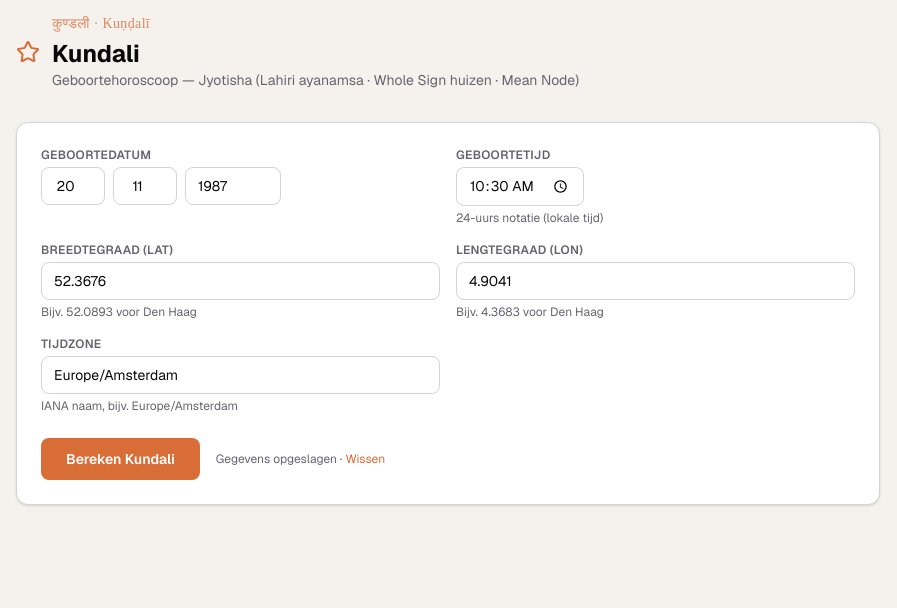
Test case: Kundali Page › handles network errors gracefully
Fill ALL form fields
Replace the text in the 1st number field with placeholder "DD" with "01" at (73, 186), box 41,167 -> 105,205
Replace the text in the 2nd number field with placeholder "MM" with "01" at (145, 186), box 113,167 -> 177,205
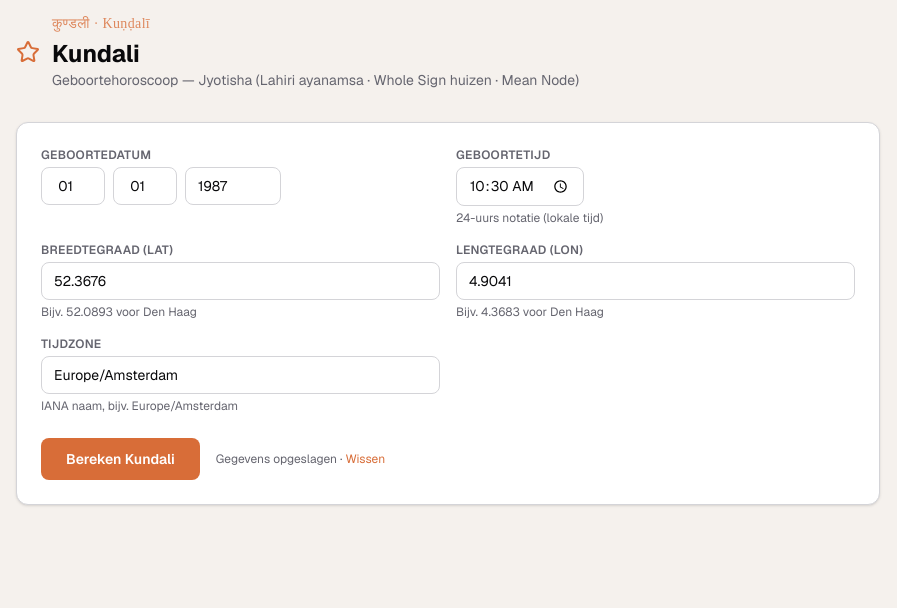
Replace the text in the 3rd number field with placeholder "JJJJ" with "2000" at (233, 186), box 185,167 -> 281,205
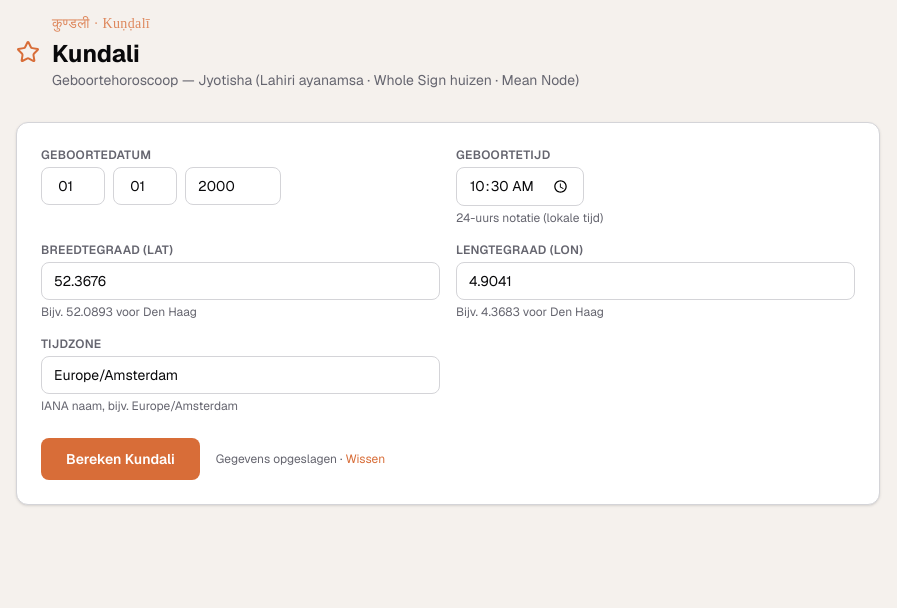
Replace the text in the time field labelled "Geboortetijd" with "12:00" at (520, 186), box 456,167 -> 584,206
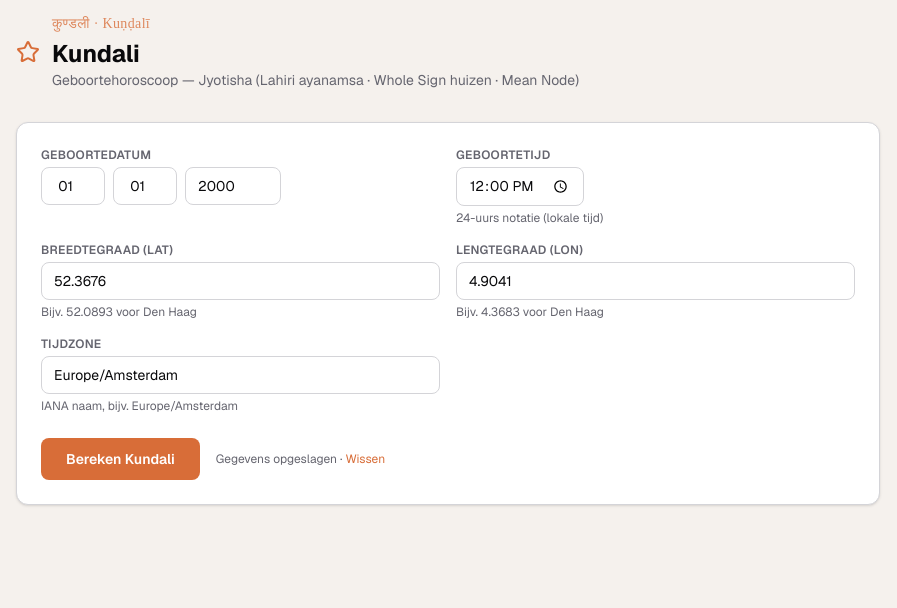
Replace the text in the number field with placeholder "52.0893" with "52" at (240, 281), box 41,262 -> 440,300
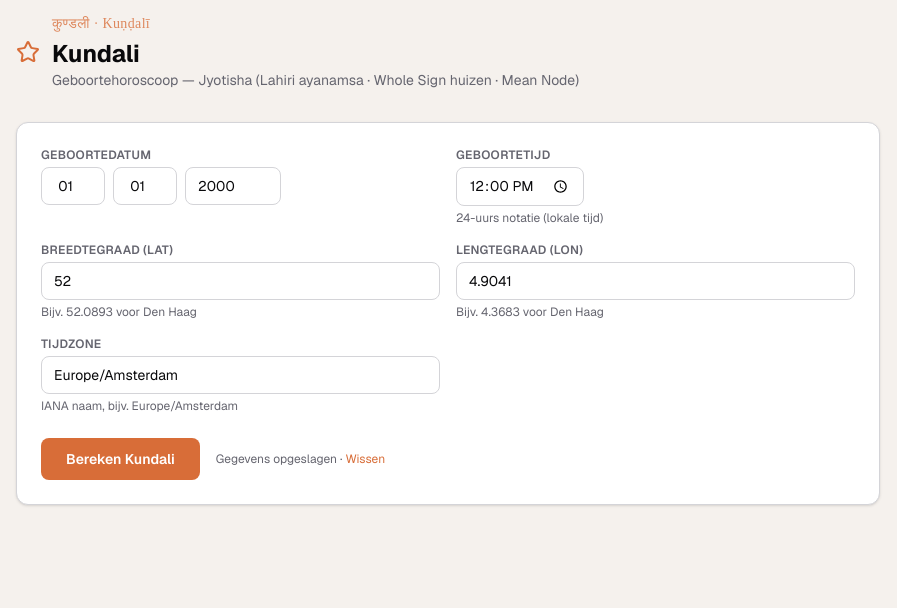
Replace the text in the number field with placeholder "4.3683" with "4" at (656, 281), box 456,262 -> 855,300
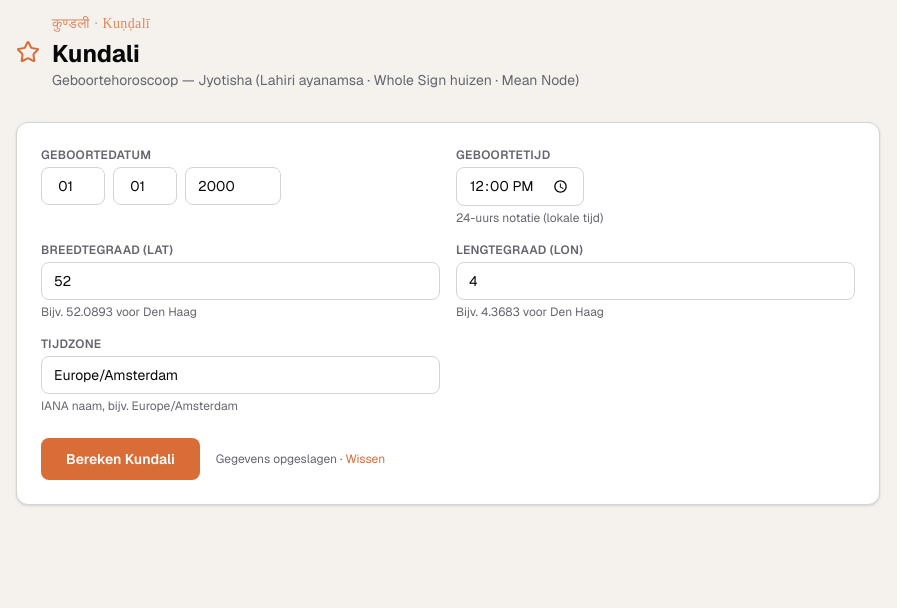
Submit the form named "Bereken Kundali"
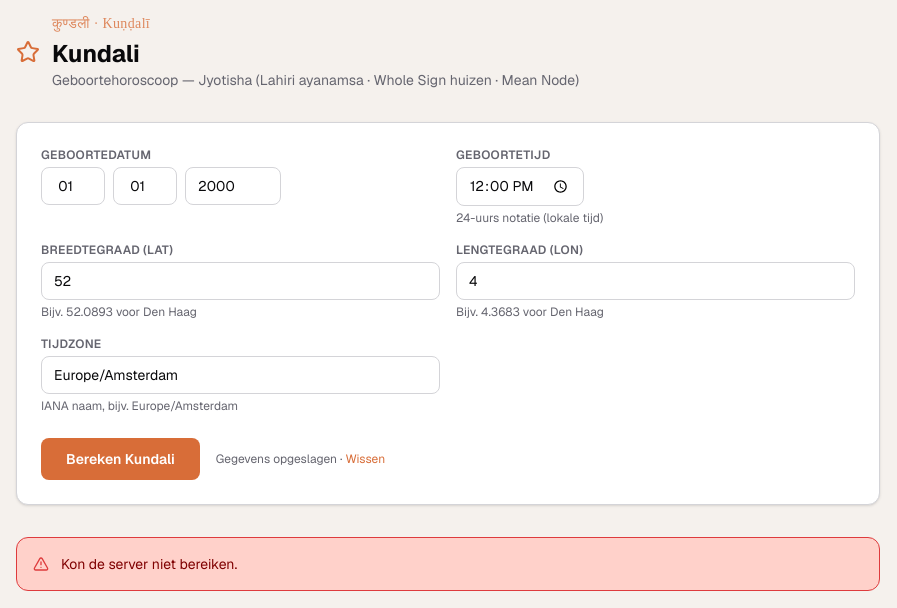
Check: the text "Kon de server niet bereiken." is shown, box 61,554 -> 237,574
